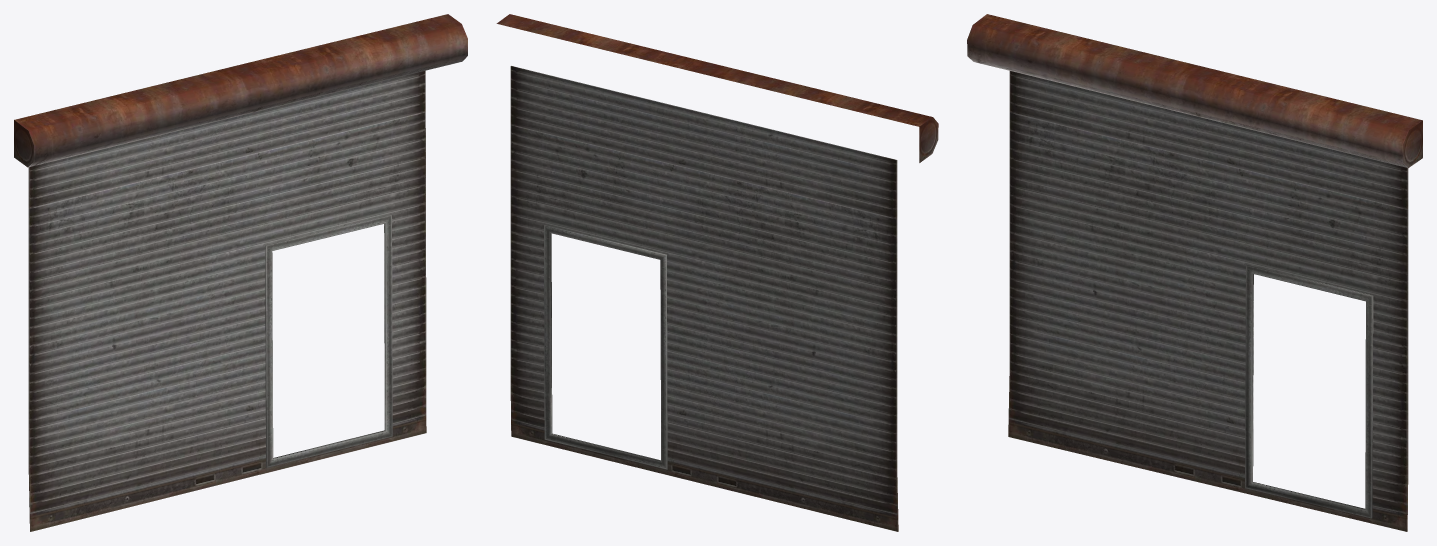
The model's file is garage_door_large_d.glb.
3 renders of one model, left to right at view 1: azimuth 30°, elevation 25°; view 2: azimuth 150°, elevation 25°; view 3: azimuth 330°, elevation 25°, orthographic. The views are drawn at different scales.
Parts seen in each view (by area): view 1: garage_door_large_d; view 2: garage_door_large_d; view 3: garage_door_large_d.
Part boxes in pixels (x1,y1,x2,y2): garage_door_large_d: (14,14,467,531); garage_door_large_d: (496,14,938,531); garage_door_large_d: (967,14,1422,531).
Bounding box in the file's own units: 4.61 × 4.25 × 0.4469.
Materials: 1 (1 with a texture image).
